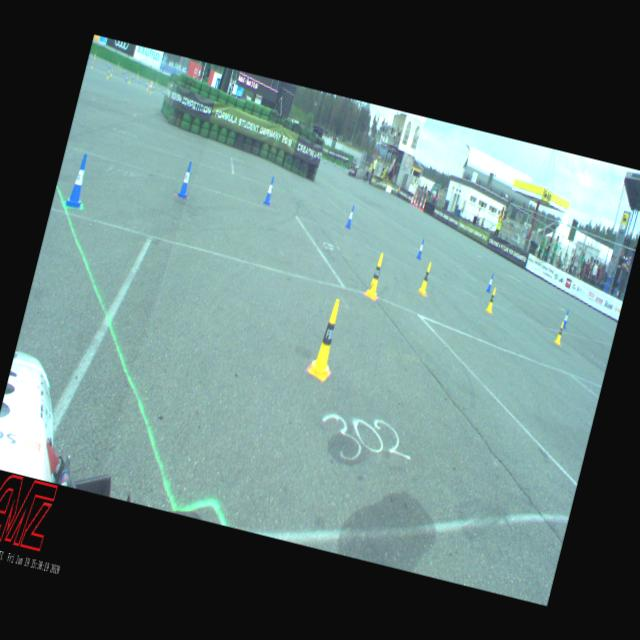blue_cone: (65, 152, 92, 208), (177, 160, 194, 198), (263, 176, 276, 205), (345, 204, 355, 228), (416, 238, 425, 258), (486, 274, 494, 292), (562, 310, 570, 328), (162, 88, 165, 94), (324, 158, 326, 164), (152, 85, 154, 90), (145, 81, 147, 86), (88, 54, 90, 59), (132, 74, 134, 79), (334, 161, 336, 166), (342, 165, 344, 170), (125, 76, 127, 80), (138, 78, 140, 82), (108, 64, 110, 68), (123, 70, 125, 74), (340, 164, 342, 168)
large_orange_cone: (418, 194, 423, 210), (412, 192, 418, 205), (421, 197, 426, 211), (409, 195, 414, 204), (415, 198, 419, 207), (148, 80, 152, 88), (150, 80, 152, 88)
yellow_cone: (307, 297, 346, 381), (365, 252, 386, 298), (418, 262, 432, 294), (486, 287, 496, 312), (554, 321, 564, 344), (106, 72, 109, 78), (150, 86, 152, 94), (91, 62, 93, 68), (110, 69, 112, 75), (128, 77, 130, 83), (158, 84, 160, 90), (146, 85, 148, 90), (119, 66, 121, 70), (136, 74, 138, 78), (118, 62, 120, 66), (94, 54, 95, 58)
